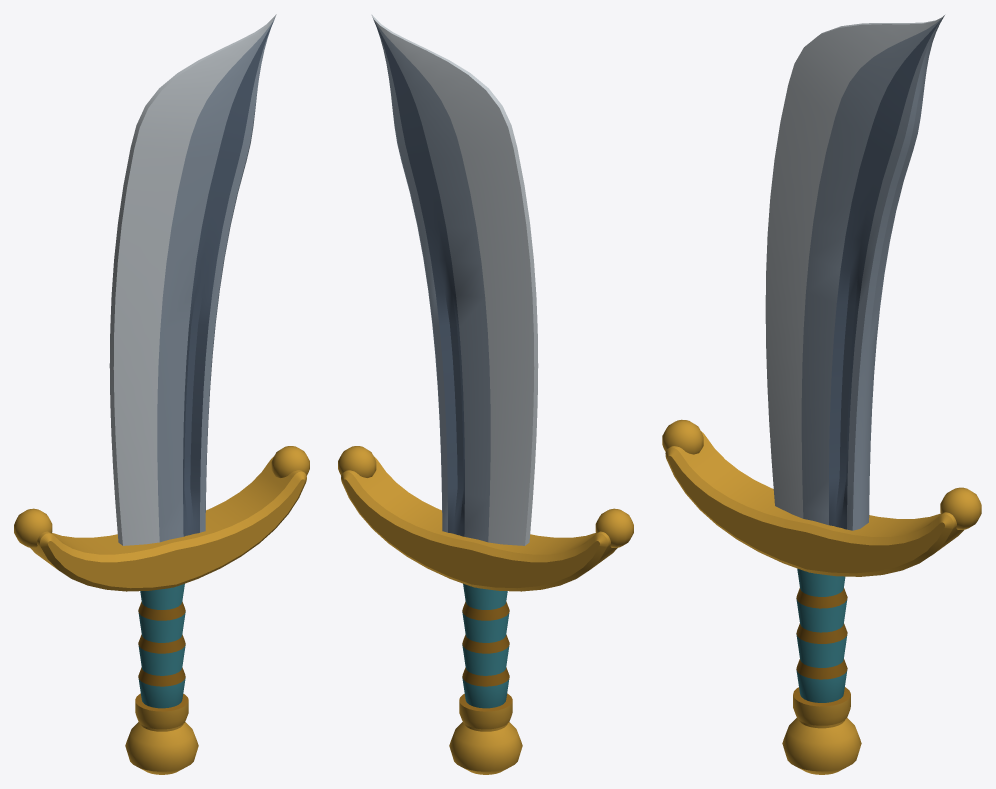
Rendered from Scimitar_20.glb.
3 views of the same model, side by side, from view 1: azimuth 30°, elevation 25°; view 2: azimuth 150°, elevation 25°; view 3: azimuth 330°, elevation 25° (orthographic). The views are drawn at different scales.
Visible parts, largest first — view 1: Scimitar_20; view 2: Scimitar_20; view 3: Scimitar_20.
Boxes of the visible parts, left/top/right/bottom form: Scimitar_20: left=14, top=14, right=309, bottom=774; Scimitar_20: left=338, top=14, right=633, bottom=774; Scimitar_20: left=662, top=15, right=981, bottom=774.
Bounding box in the file's own units: 2.56 × 6.11 × 0.56.
